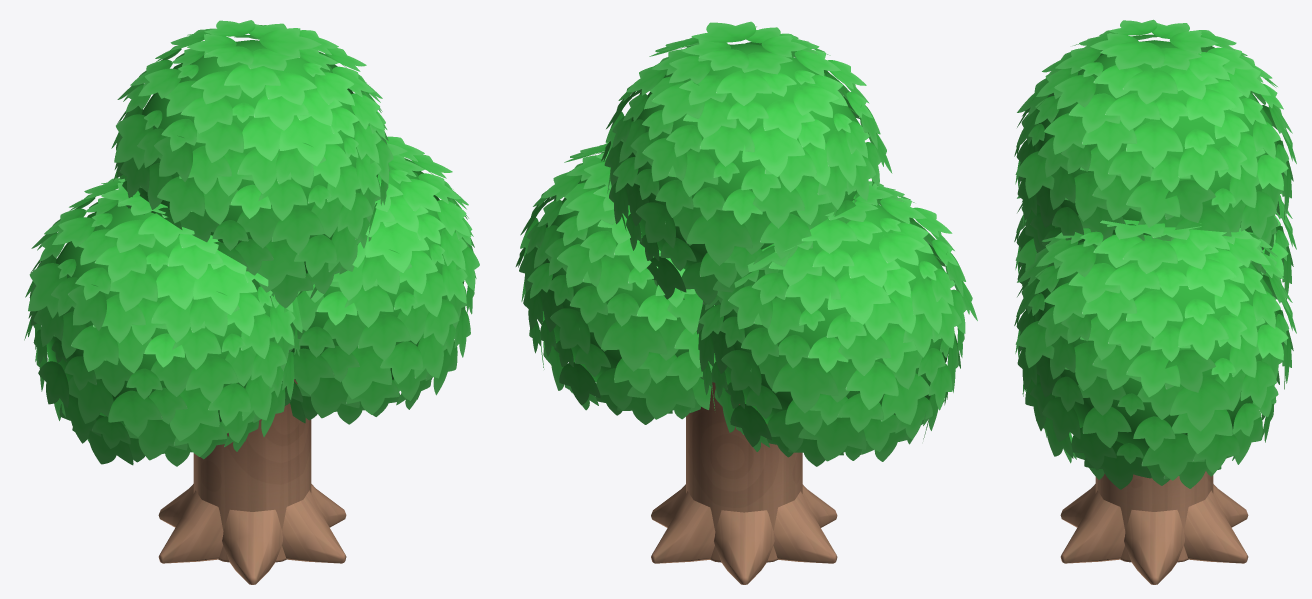
Rendered from Tree.fbx.
3 views of the same model, side by side, from view 1: azimuth 30°, elevation 25°; view 2: azimuth 150°, elevation 25°; view 3: azimuth 270°, elevation 25° (orthographic).
Parts seen in each view (by area): view 1: tree; view 2: tree; view 3: tree.
Part boxes in pixels (box(x1,y1,x2,y2)): tree: box(24, 20, 479, 584); tree: box(515, 21, 977, 584); tree: box(1014, 19, 1296, 584).
Bounding box in the file's own units: 589 × 658 × 345.
